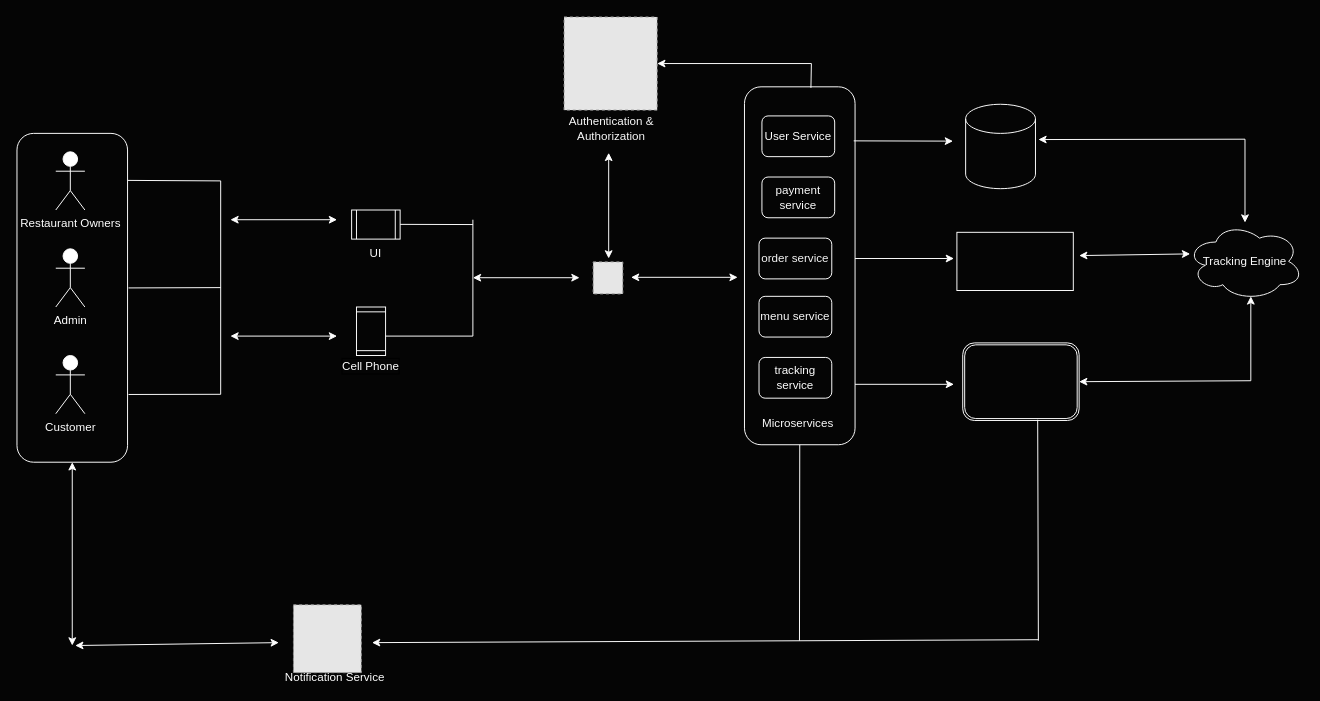
Image size: 1320x701. Some labels were removed from this diagram. Grey dashed boxes stand in for pictures. The centre of each missing label's shape, as x and y in pixels:
"Database" goes at [1000,146].
"Elastic Search" goes at [1014,261].
"Messaging Queue" goes at [1020,381].
